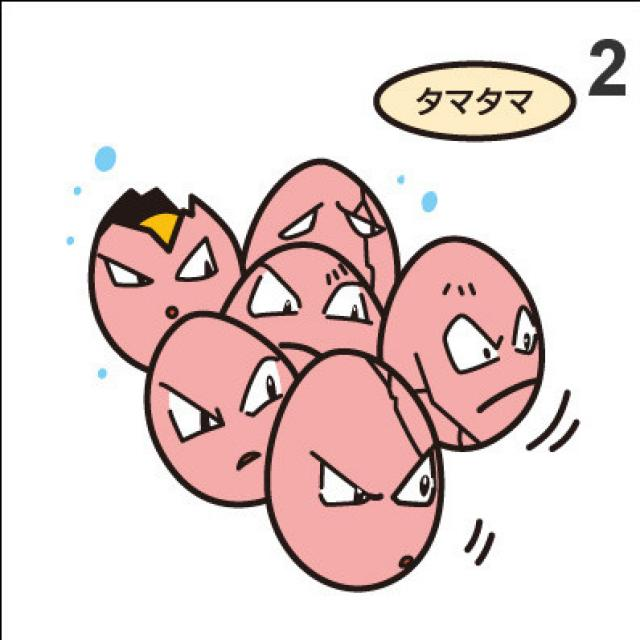Exeggcute: (88, 155, 548, 594)
